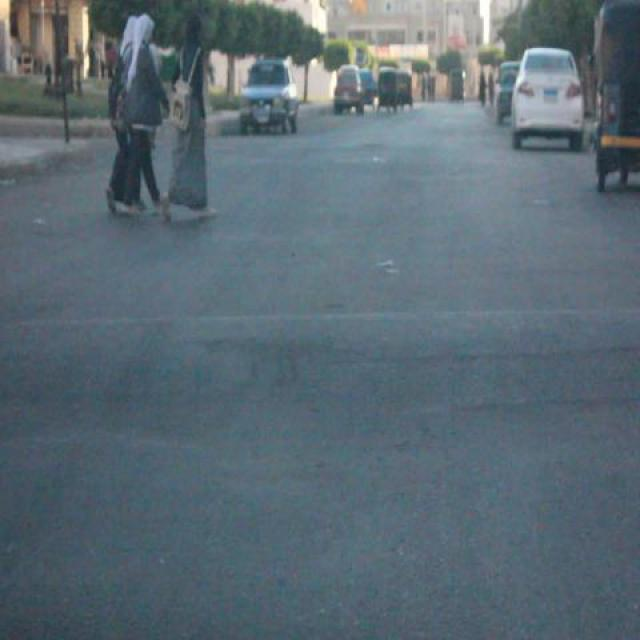Unmarked Bump: (0, 309, 640, 448)
